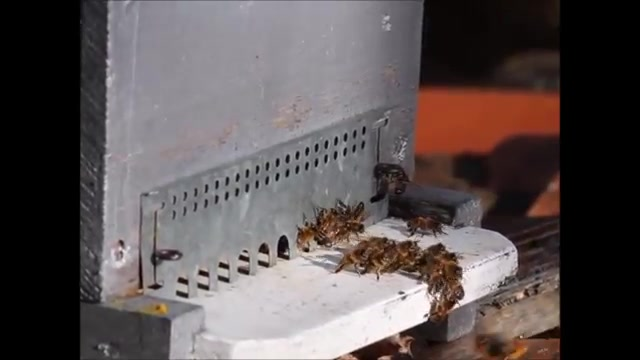bee: (313, 208, 339, 242), (407, 218, 443, 240), (436, 294, 462, 319), (340, 215, 369, 237), (344, 249, 375, 267), (388, 248, 419, 265), (443, 259, 463, 282)
